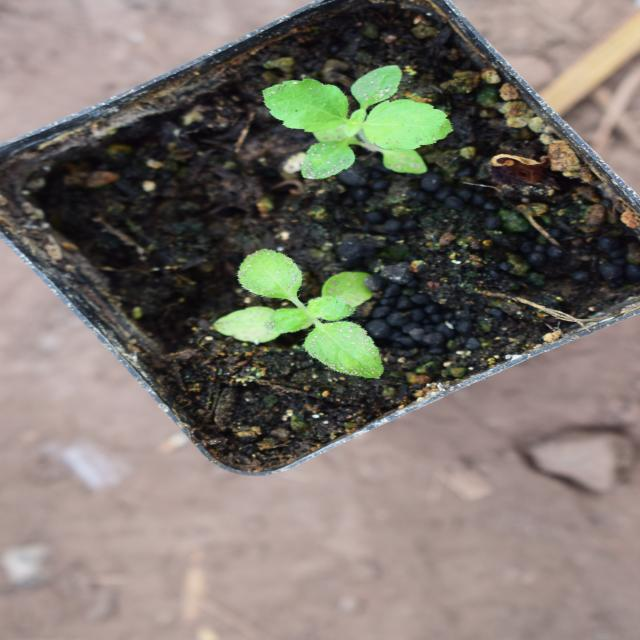billygoat_weed: (240, 205, 406, 391), (475, 236, 572, 456)
